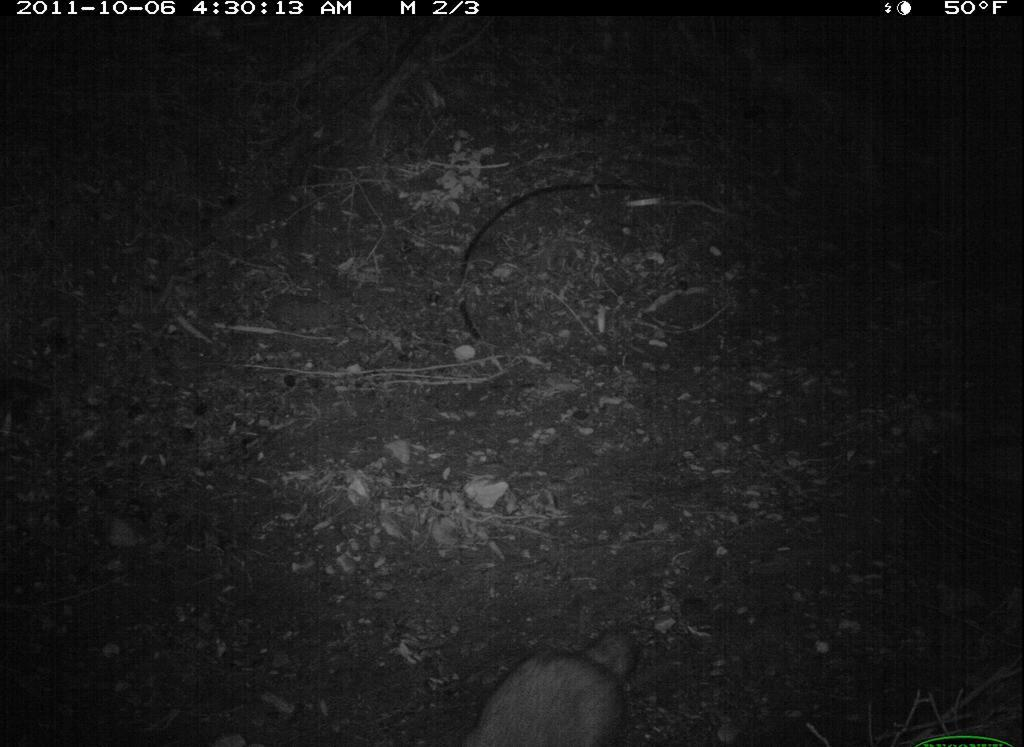raccoon: (447, 615, 688, 747)
